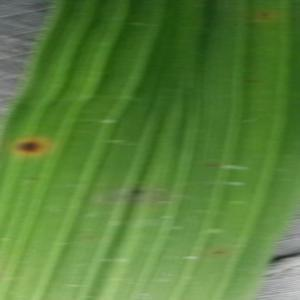0 BrownSpot: (9, 134, 50, 158), (209, 245, 228, 259), (127, 186, 147, 198), (257, 9, 271, 19)
